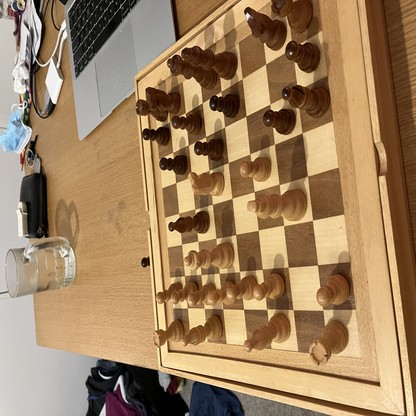bishop_black: (282, 87, 330, 117), (169, 212, 210, 235)
bishop_white: (244, 314, 291, 352), (182, 314, 223, 345)
king_black: (181, 47, 237, 80)
king_white: (247, 190, 306, 222)
knight_black: (244, 7, 287, 50), (145, 88, 181, 113)
knight_white: (188, 171, 224, 196)
pawn_black: (286, 42, 320, 72), (263, 109, 295, 135), (210, 93, 240, 118), (195, 137, 225, 160), (172, 113, 202, 134), (142, 127, 170, 146), (160, 155, 187, 174)
pawn_white: (317, 274, 348, 307), (254, 274, 285, 300), (226, 276, 257, 301), (208, 279, 235, 307), (240, 159, 271, 182), (188, 282, 216, 307), (171, 281, 198, 304), (157, 281, 183, 304)
queen_black: (167, 55, 217, 89)
queen_white: (185, 242, 235, 271)
rock_black: (271, 0, 312, 35), (136, 98, 168, 122)
rock_white: (308, 321, 347, 368), (153, 319, 184, 347)
